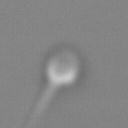normal: (16, 81, 56, 128)
